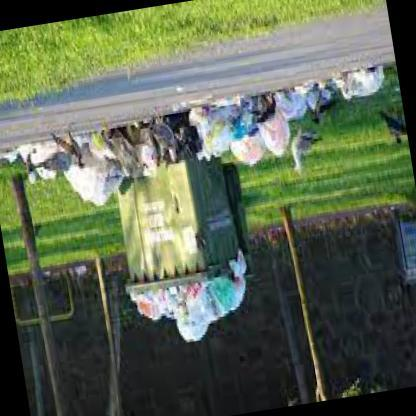Garbage: (129, 278, 252, 350), (185, 89, 289, 170), (108, 116, 192, 172), (0, 138, 65, 189), (331, 65, 384, 95), (70, 170, 107, 206)
